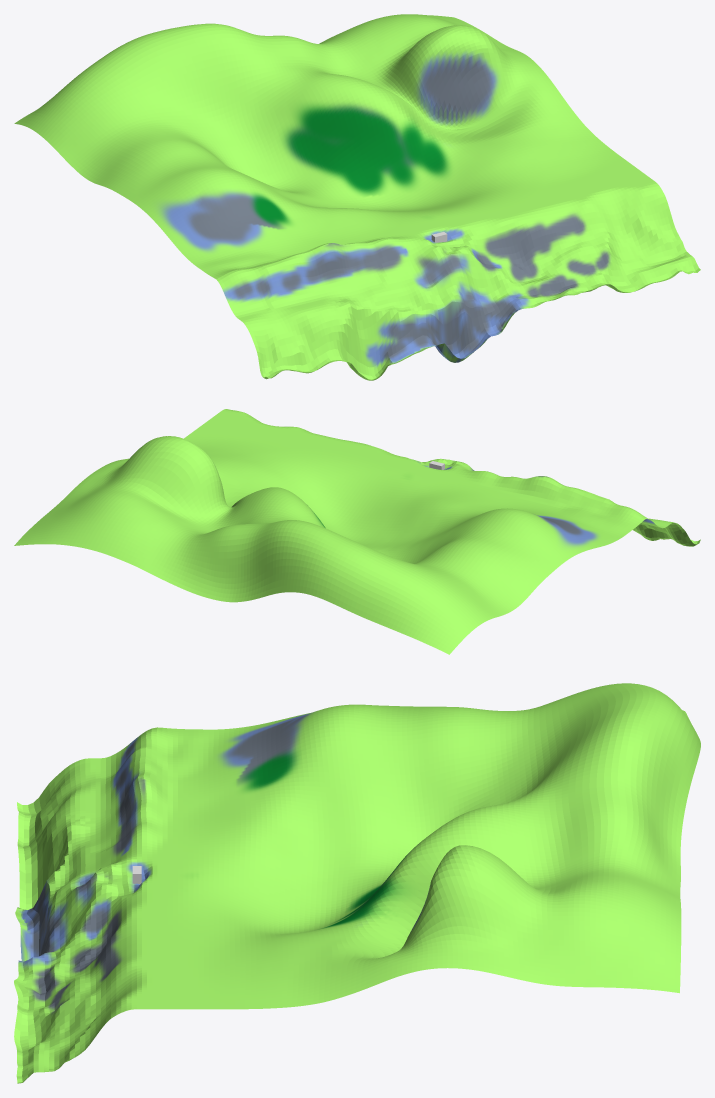
Rendered from debugscene.glb.
3 renders of one model, top to bottom at view 1: azimuth 30°, elevation 25°; view 2: azimuth 150°, elevation 25°; view 3: azimuth 270°, elevation 25°, orthographic. The views are drawn at different scales.
Visible parts, largest first — view 1: Grid; view 2: Grid; view 3: Grid.
Boxes of the visible parts, box(x1,y1,x2,y2) form: Grid: box(14, 14, 700, 380); Grid: box(14, 409, 700, 654); Grid: box(14, 683, 700, 1083).
Size of the model in its own units: 1027 by 395 by 1040.
1 material, 1 textured.
